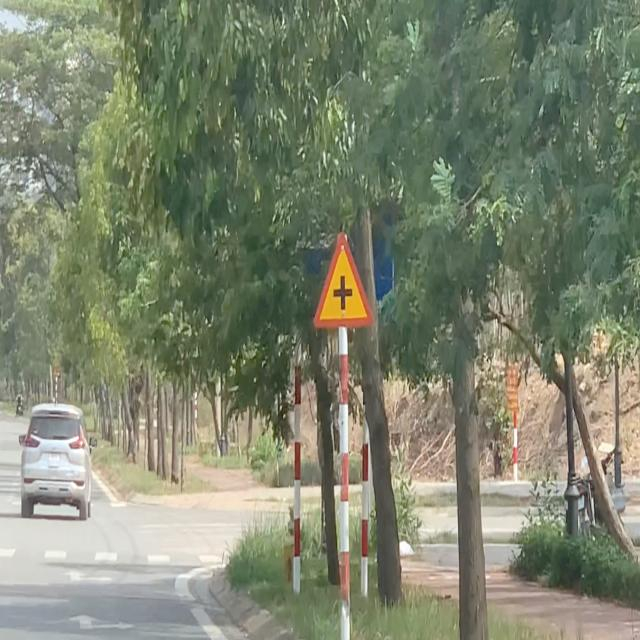Duong giao nhau: (308, 221, 378, 335)
